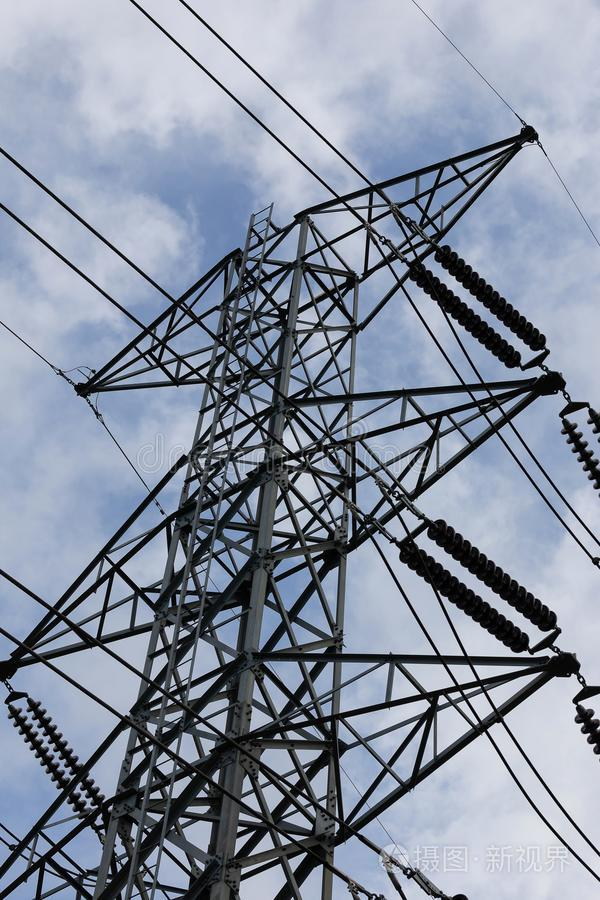insulator: (428, 516, 560, 632), (401, 542, 530, 656), (8, 693, 107, 818), (411, 258, 522, 369), (431, 244, 547, 350), (559, 421, 600, 485), (576, 705, 600, 755)
